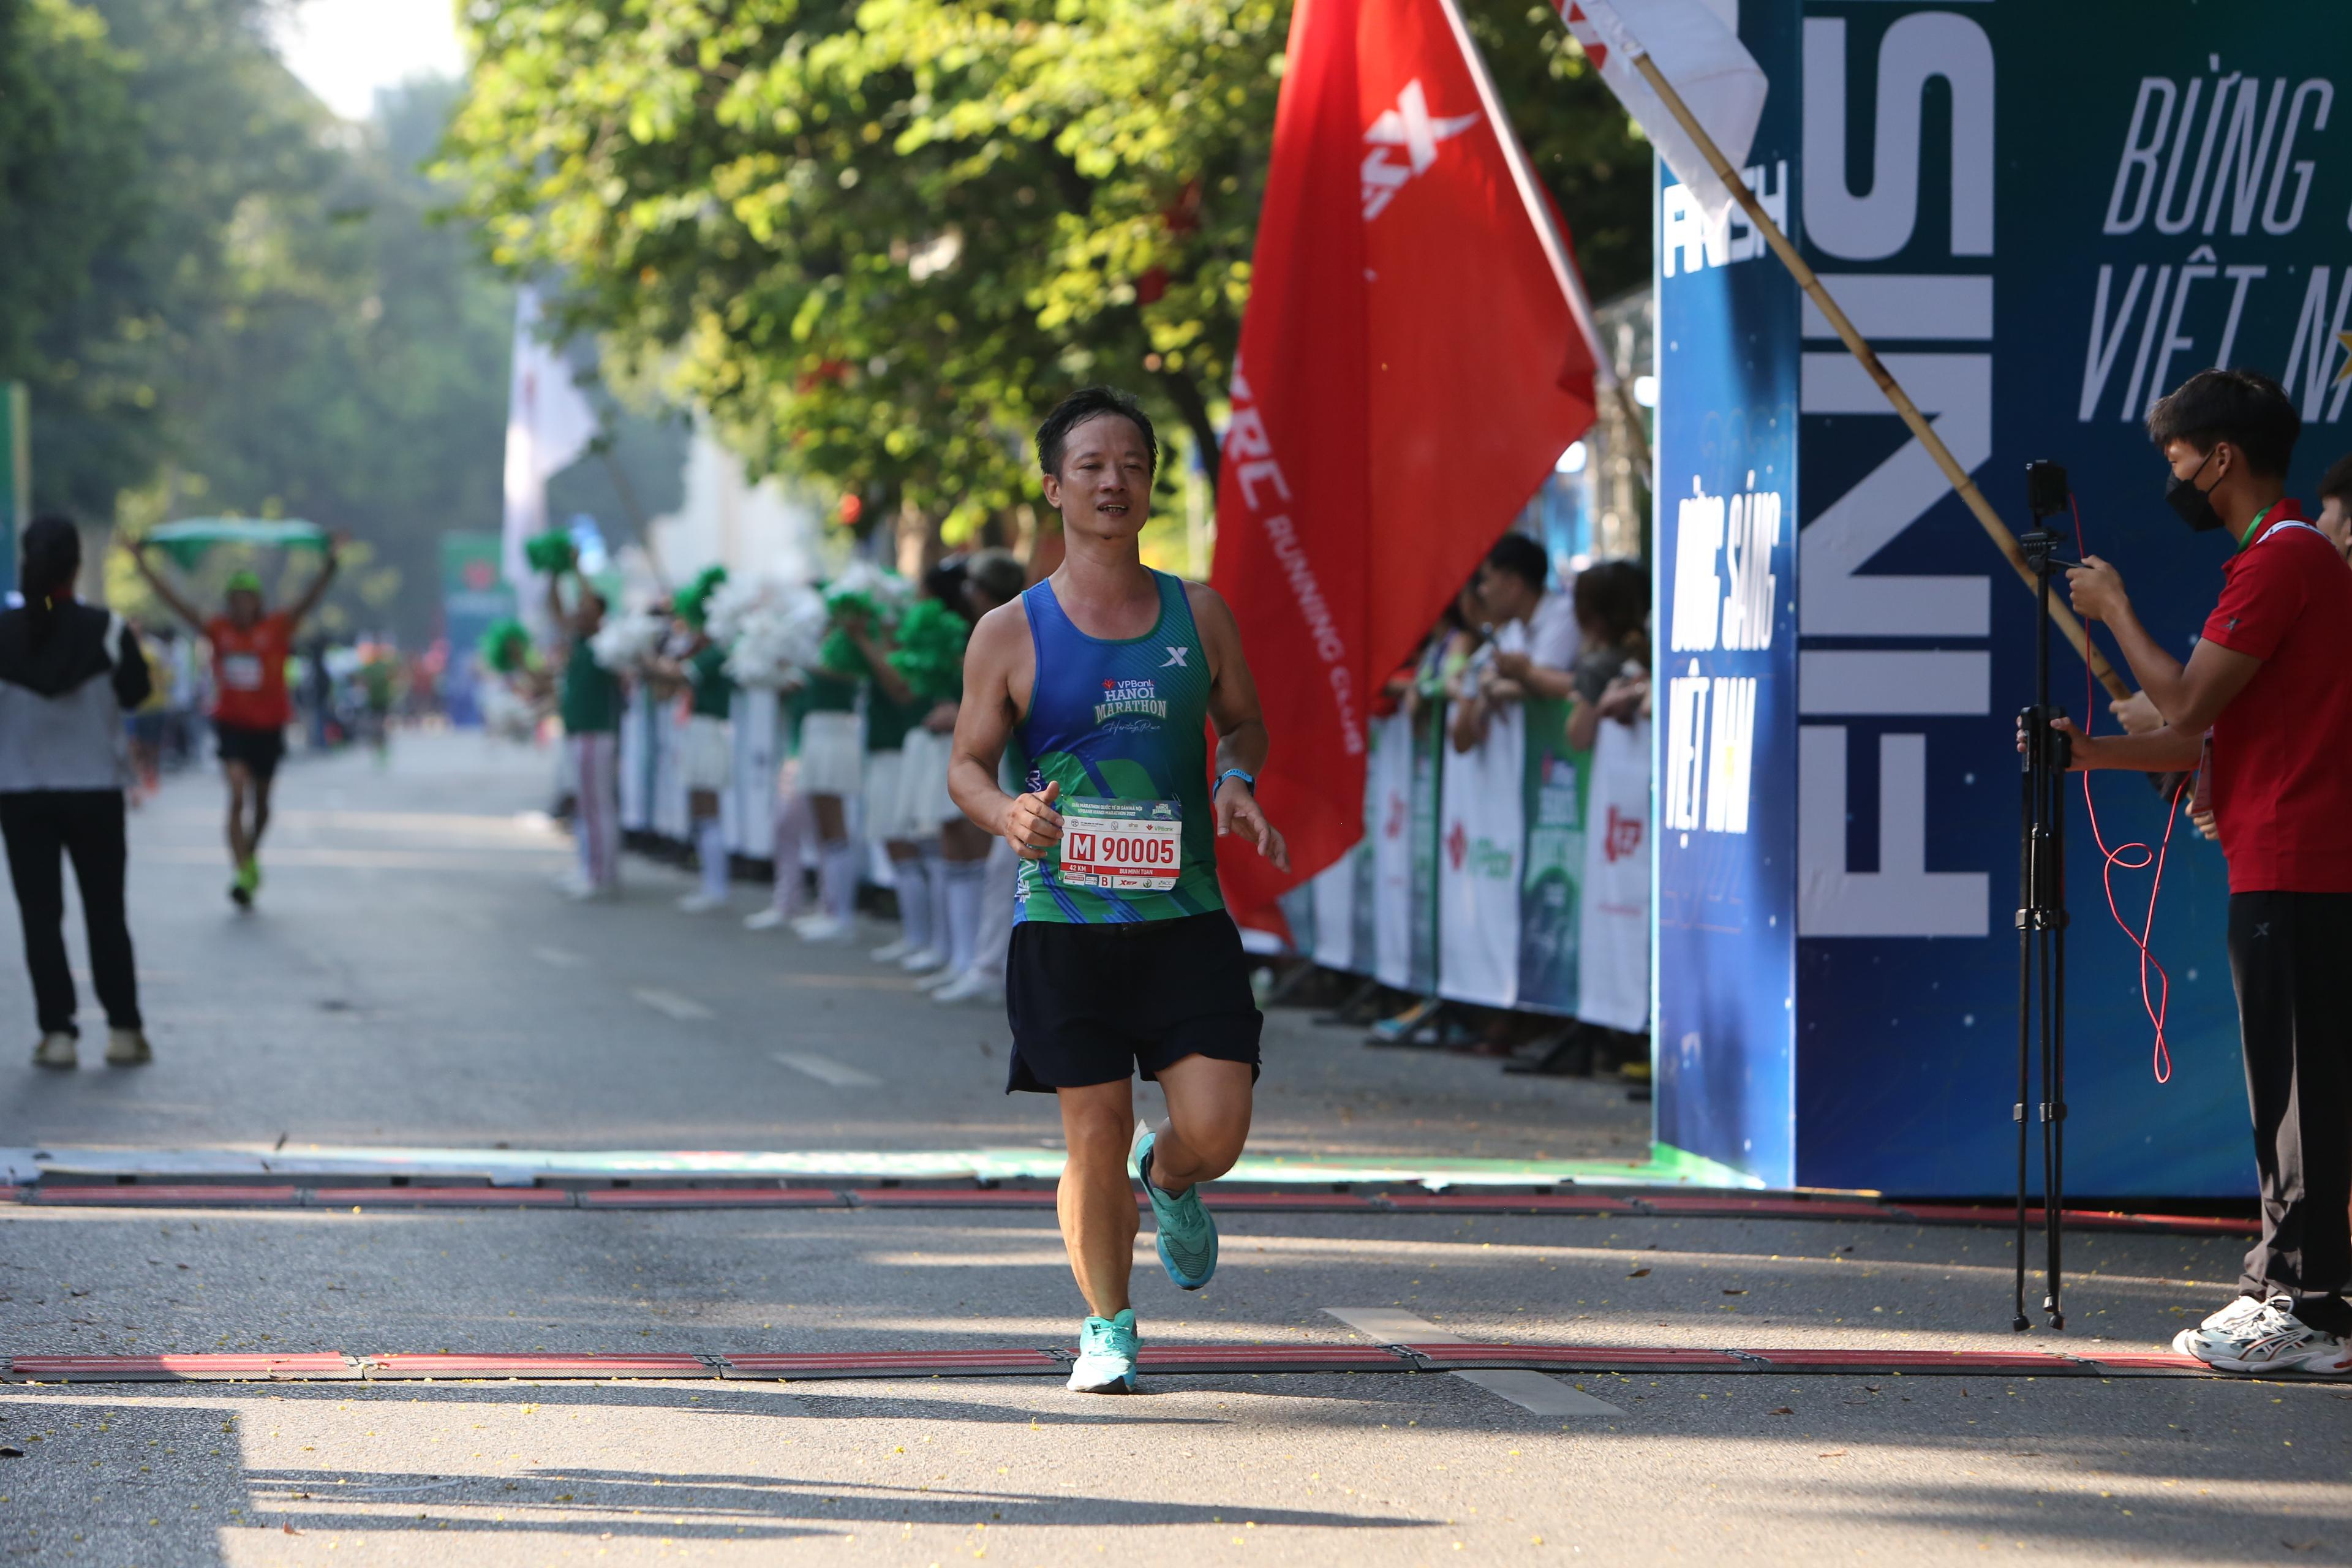bib: (1061, 794, 1185, 894)
